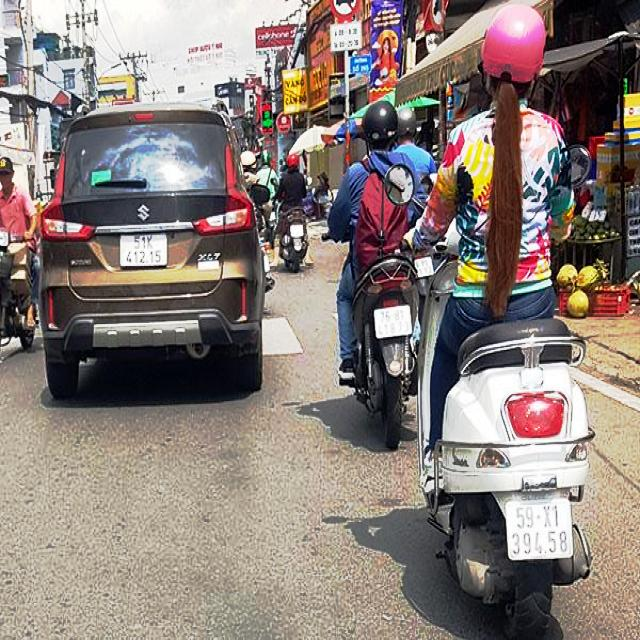license_plate: (506, 496, 577, 562), (121, 235, 169, 268)
